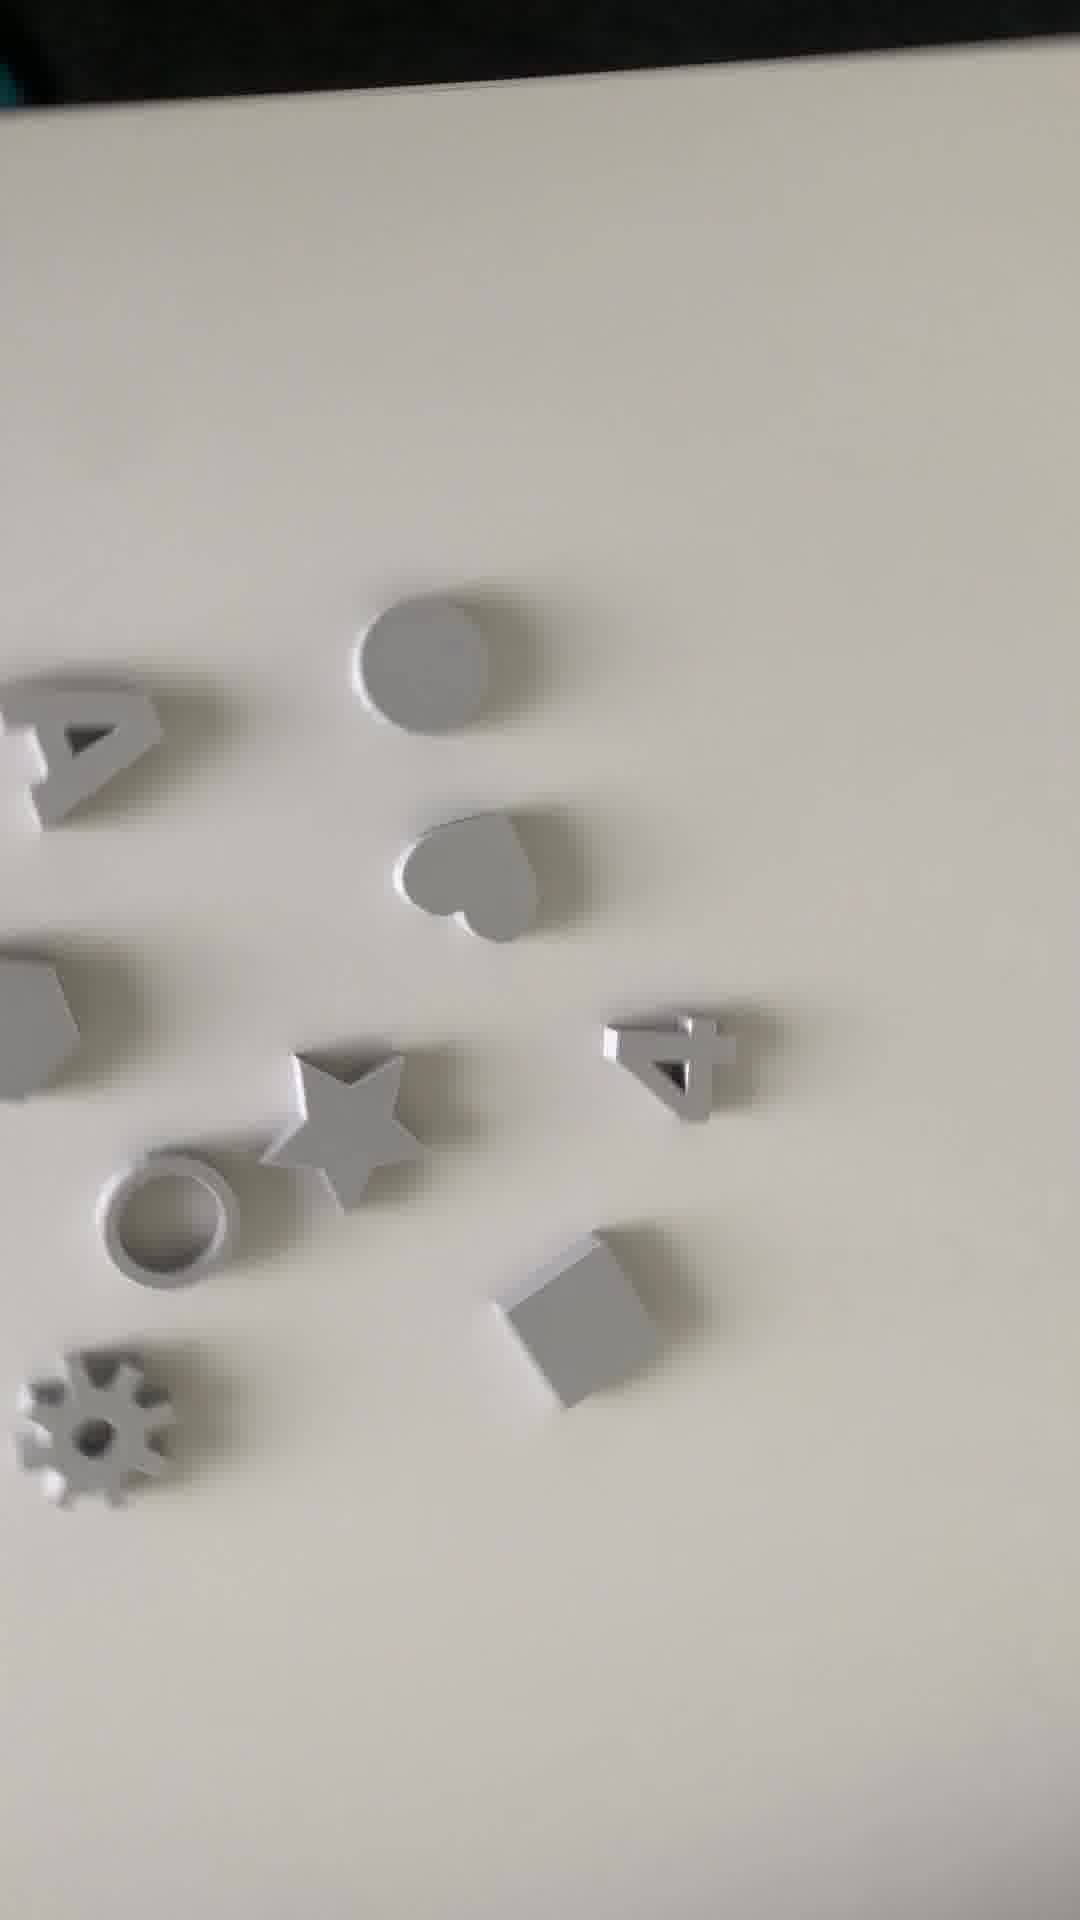Gray A-letter: (1, 667, 165, 843)
Gray circle: (357, 597, 498, 736)
Gray four: (603, 1006, 741, 1130)
Gray gear: (1, 1354, 182, 1524)
Gray heart: (394, 804, 553, 957)
Gray hexagon: (1, 945, 96, 1114)
Gray ring: (98, 1153, 239, 1303)
Gray square: (484, 1224, 663, 1424)
Gray star: (262, 1044, 426, 1226)
